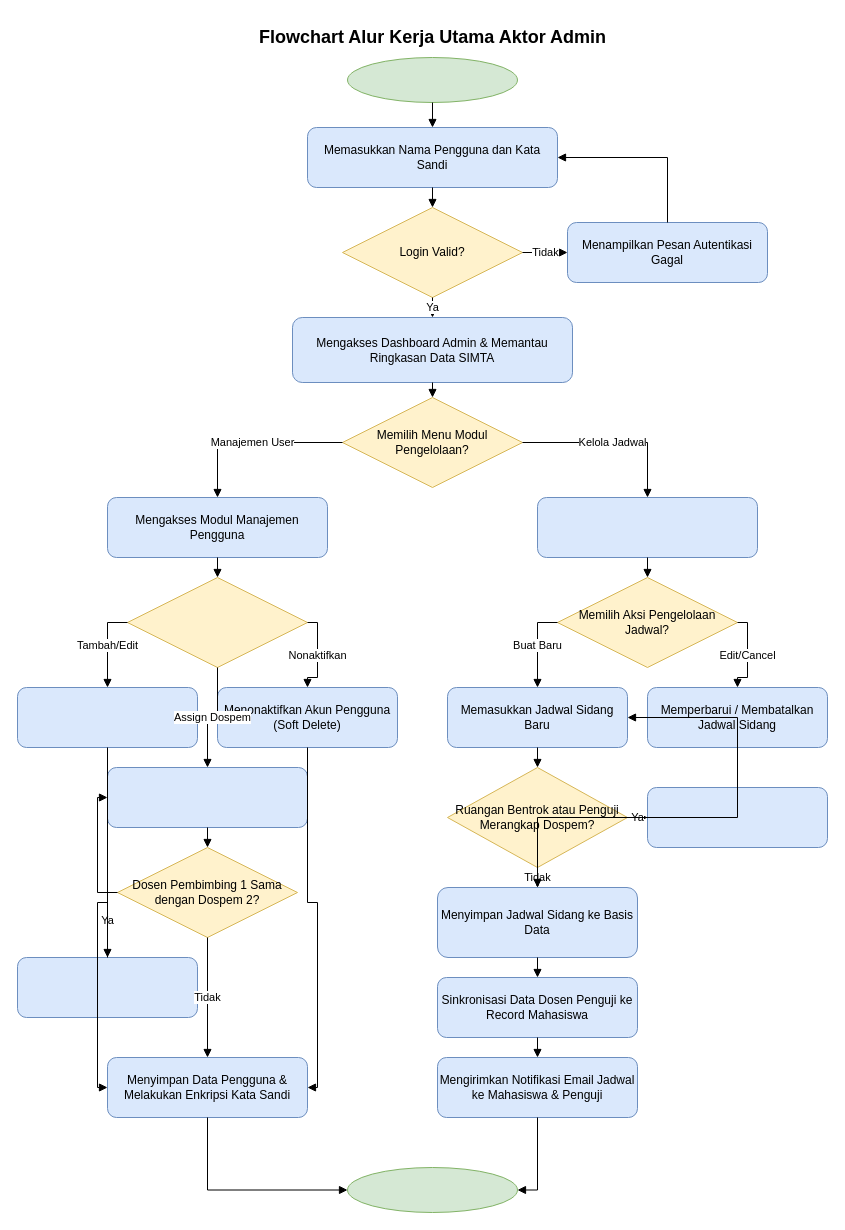
This 845x1230 diagram has some shape labels left out. Each missing label, with the centre of its shape:
"Memilih Aksi Pengelolaan Pengguna?" belongs at pixel 217 622.
"Menambah / Memperbarui Akun Pengguna" belongs at pixel 107 717.
"Menampilkan Pesan Kesalahan Duplikasi Dosen" belongs at pixel 107 987.
"Menampilkan Pesan Kesalahan Validasi Bentrok/Peran" belongs at pixel 737 817.
"Menentukan Dosen Pembimbing 1 & Dosen Pembimbing 2" belongs at pixel 207 797.
"Mengakses Modul Kelola Jadwal Sidang" belongs at pixel 647 527.
"MULAI" belongs at pixel 432 79.
"SELESAI" belongs at pixel 432 1189.
